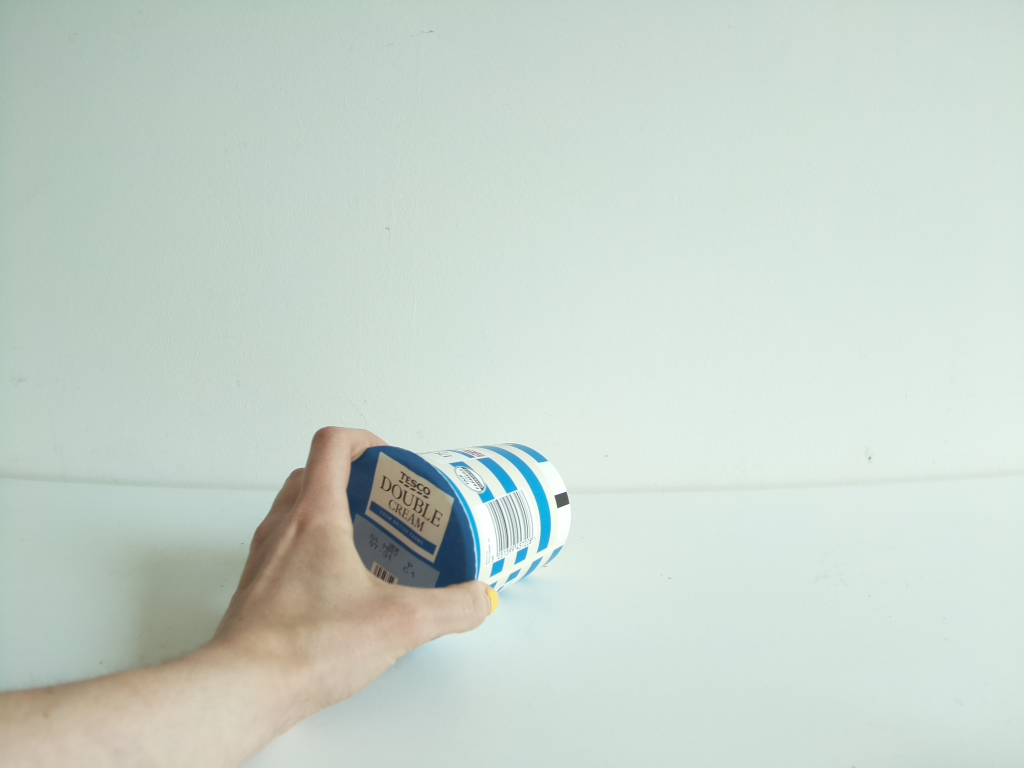cream: (347, 445, 573, 587)
